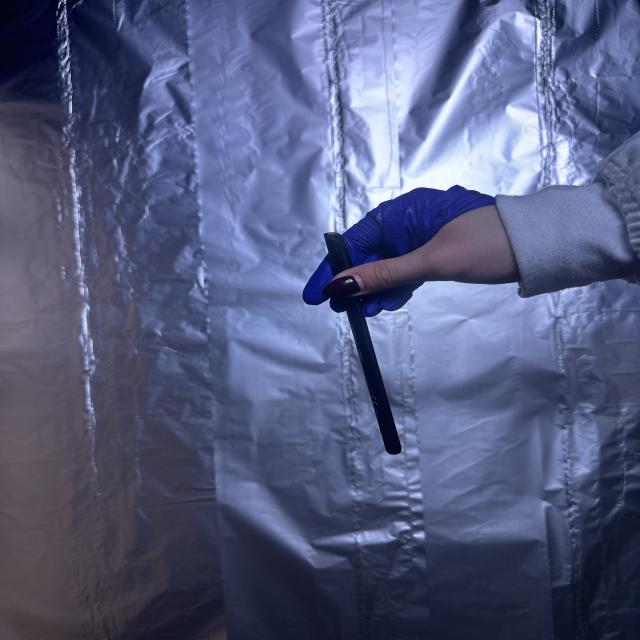glove_partial: (299, 175, 522, 318)
